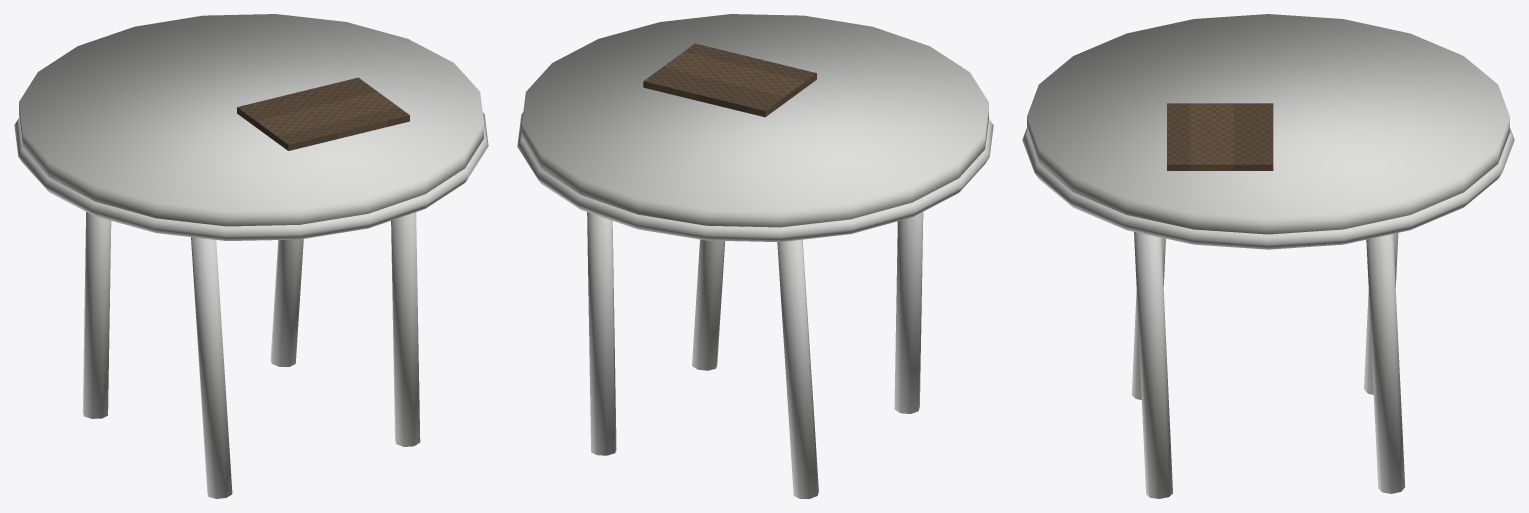
File: WK_FUR_PlasticTable.glb
The picture shows the model from 3 angles, left to right: view 1: azimuth 30°, elevation 25°; view 2: azimuth 150°, elevation 25°; view 3: azimuth 270°, elevation 25°; orthographic projection. The views are drawn at different scales.
Visible parts, largest first — view 1: WK_FUR_PlasticTable_P01, WK_FUR_PlasticTable_P02, WK_FUR_PlasticTable_P08, WK_FUR_PlasticTable_P05, WK_FUR_PlasticTable_P06, WK_FUR_PlasticTable_P04, WK_FUR_PlasticTable_P03; view 2: WK_FUR_PlasticTable_P01, WK_FUR_PlasticTable_P02, WK_FUR_PlasticTable_P08, WK_FUR_PlasticTable_P04, WK_FUR_PlasticTable_P03, WK_FUR_PlasticTable_P05, WK_FUR_PlasticTable_P06; view 3: WK_FUR_PlasticTable_P01, WK_FUR_PlasticTable_P02, WK_FUR_PlasticTable_P06, WK_FUR_PlasticTable_P08, WK_FUR_PlasticTable_P03, WK_FUR_PlasticTable_P05, WK_FUR_PlasticTable_P04.
Boxes of the visible parts, x1,y1,x2,y2 form: WK_FUR_PlasticTable_P01: [19, 14, 483, 226]; WK_FUR_PlasticTable_P02: [14, 112, 488, 240]; WK_FUR_PlasticTable_P08: [237, 77, 409, 150]; WK_FUR_PlasticTable_P05: [191, 237, 232, 498]; WK_FUR_PlasticTable_P06: [391, 212, 420, 446]; WK_FUR_PlasticTable_P04: [82, 212, 111, 418]; WK_FUR_PlasticTable_P03: [270, 239, 303, 366]; WK_FUR_PlasticTable_P01: [522, 14, 988, 227]; WK_FUR_PlasticTable_P02: [517, 112, 993, 241]; WK_FUR_PlasticTable_P08: [643, 43, 816, 117]; WK_FUR_PlasticTable_P04: [777, 239, 818, 498]; WK_FUR_PlasticTable_P03: [587, 212, 616, 455]; WK_FUR_PlasticTable_P05: [894, 212, 923, 413]; WK_FUR_PlasticTable_P06: [692, 239, 724, 370]; WK_FUR_PlasticTable_P01: [1027, 14, 1509, 234]; WK_FUR_PlasticTable_P02: [1022, 128, 1514, 249]; WK_FUR_PlasticTable_P06: [1134, 232, 1172, 498]; WK_FUR_PlasticTable_P08: [1167, 103, 1273, 170]; WK_FUR_PlasticTable_P03: [1366, 234, 1405, 493]; WK_FUR_PlasticTable_P05: [1131, 237, 1165, 399]; WK_FUR_PlasticTable_P04: [1364, 233, 1398, 394].
Bounding box in the file's own units: 1.02 × 0.761 × 1.02.
2 materials, 1 textured.
